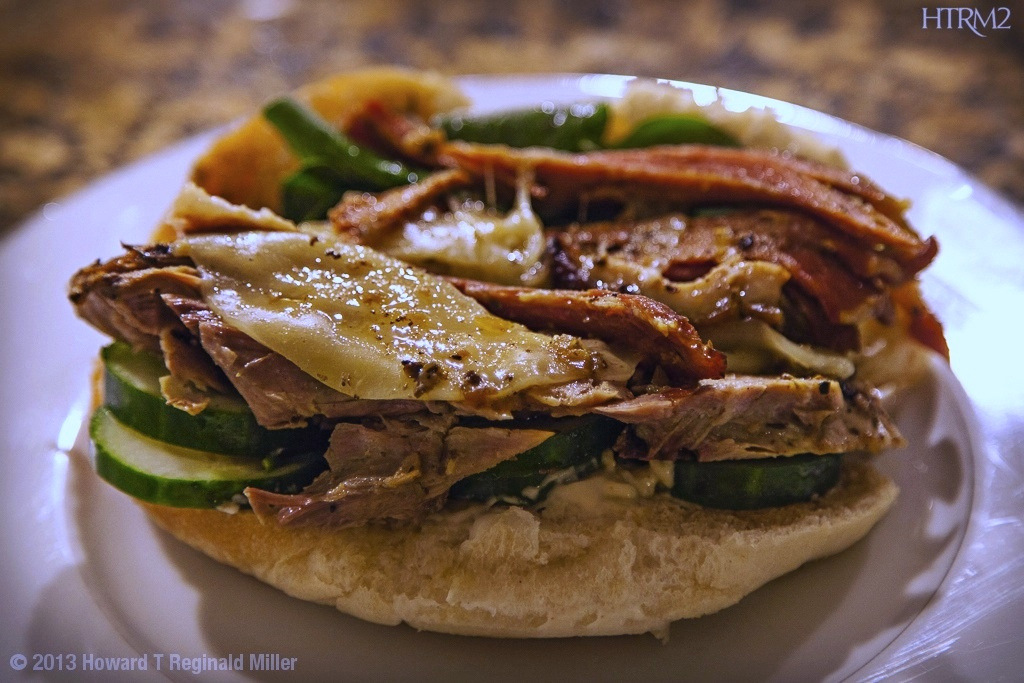slice of bread: (172, 502, 886, 637)
